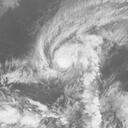cyclone: (48, 40, 80, 75)
